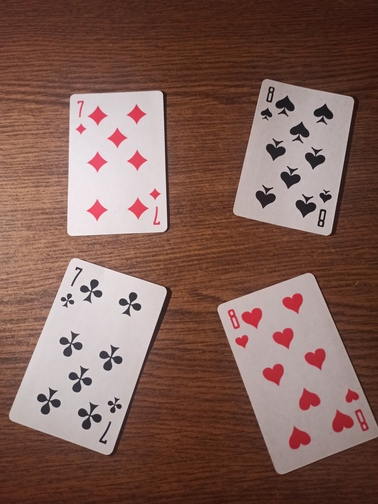eighthearts: (215, 272, 378, 476)
eightspades: (233, 79, 355, 235)
sevenclubs: (7, 257, 170, 455)
sevendiamonds: (63, 90, 170, 235)
